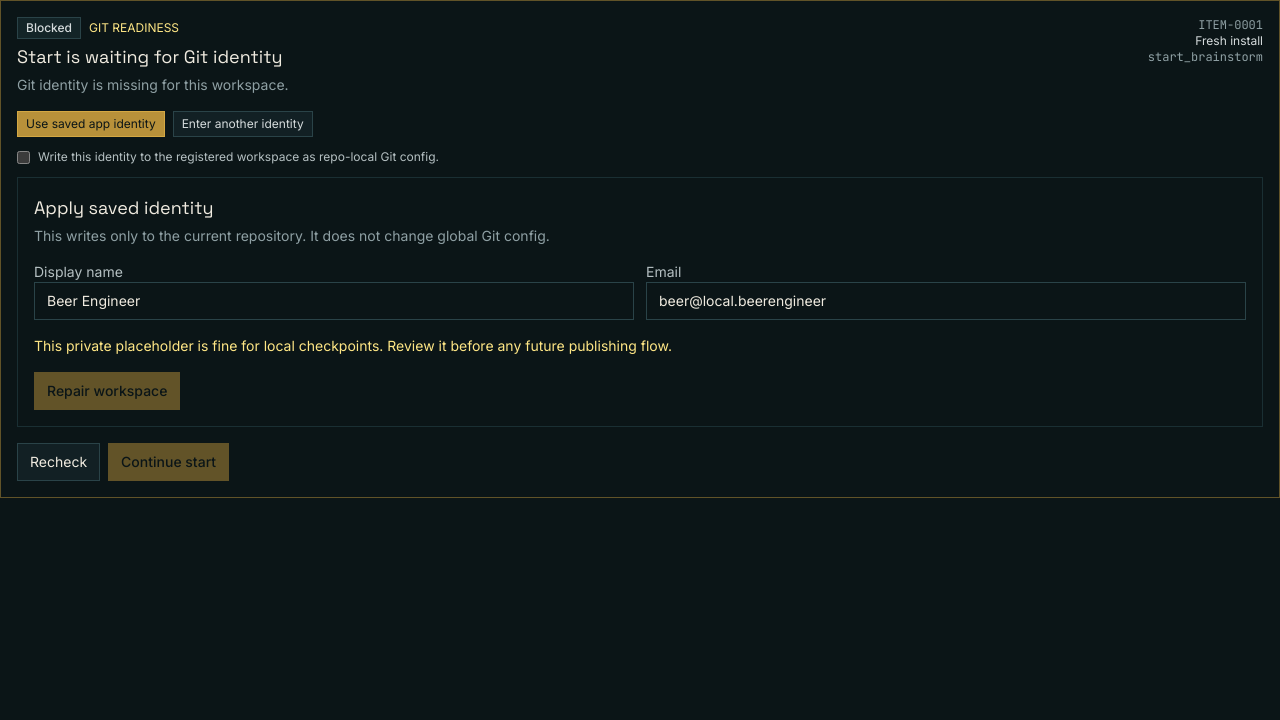
WorkflowGitRepairPanel › keeps the fresh blocker visible when repair recheck is still blocked
The width and height of the screenshot is (1280, 720).
Click the checkbox at [24, 158], box [17,151,30,164]
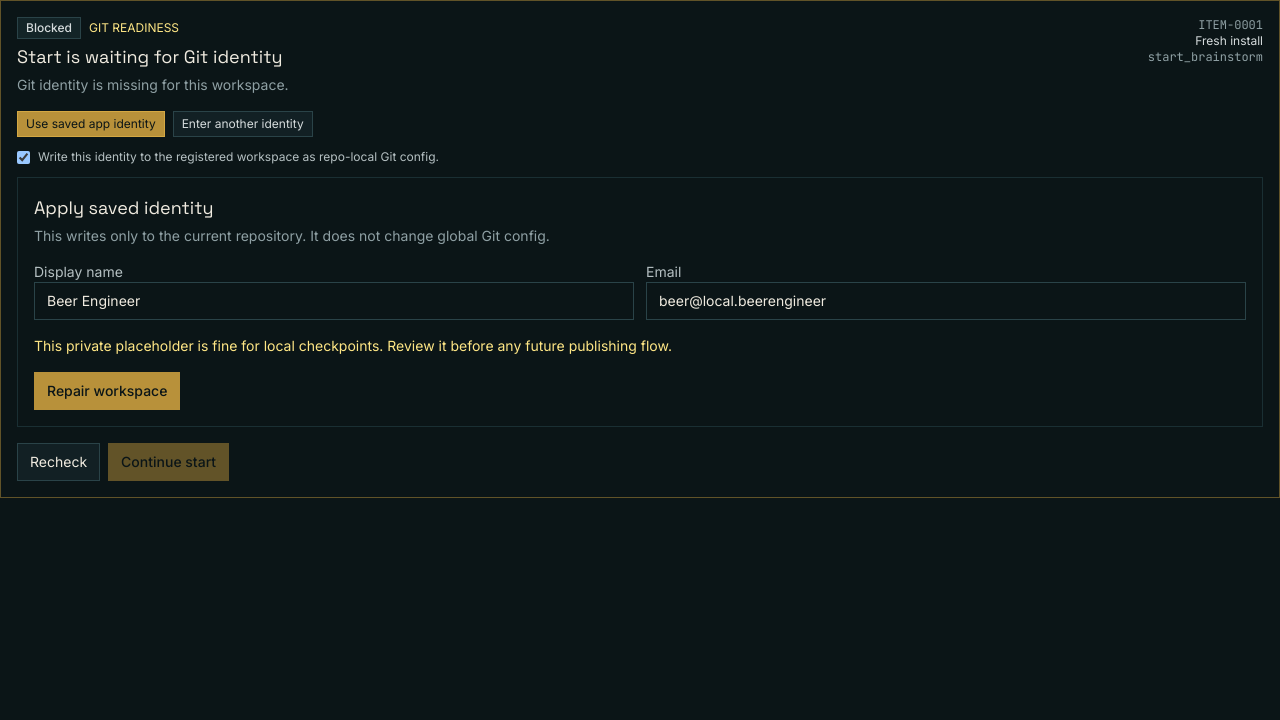
Click the button "Enter another identity" at [243, 124], box [173,111,313,137]
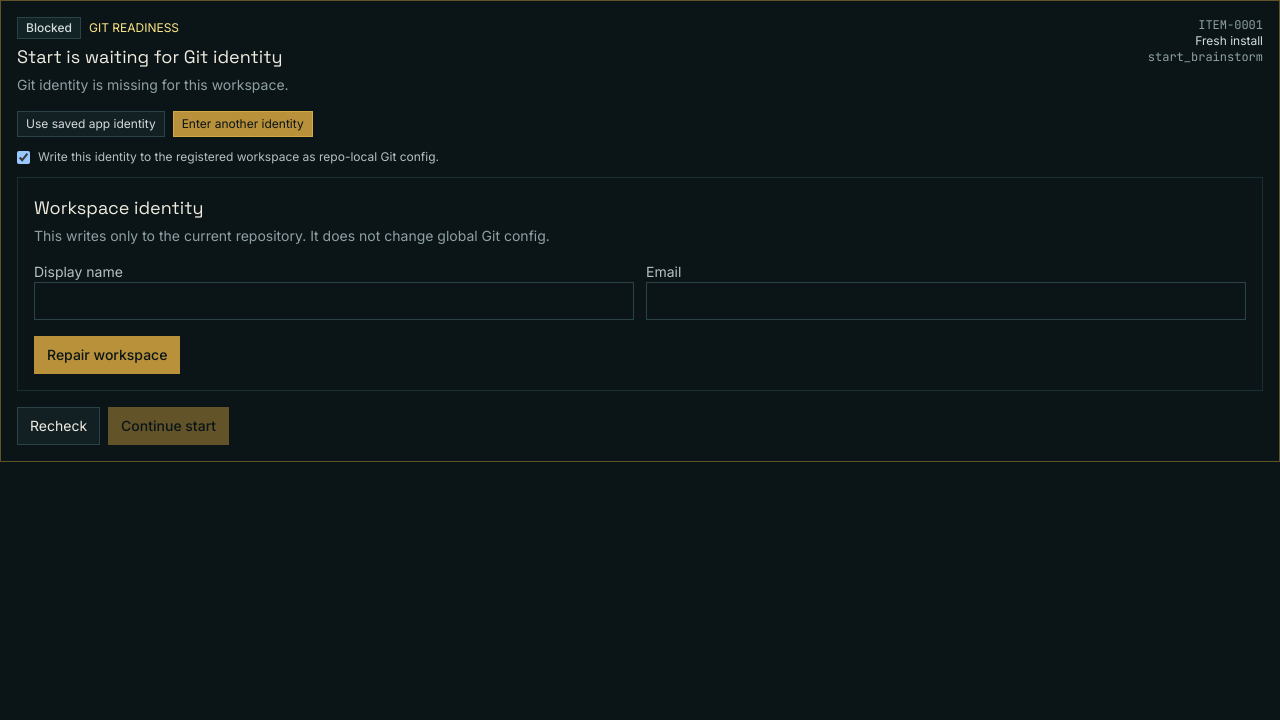
Type "Only Name" into the field labelled "Display name" at [334, 301], box [34,282,634,320]
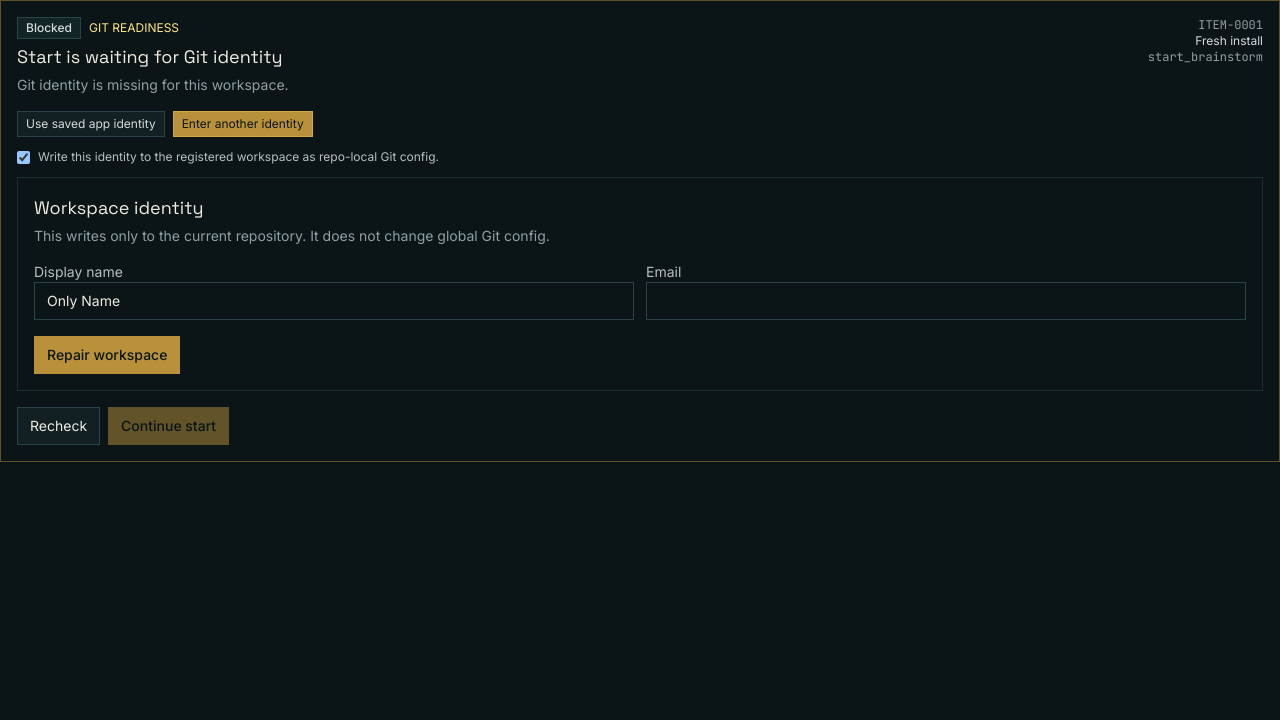
Type "repair@example.test" into the field labelled "Email" at [946, 301], box [646,282,1246,320]
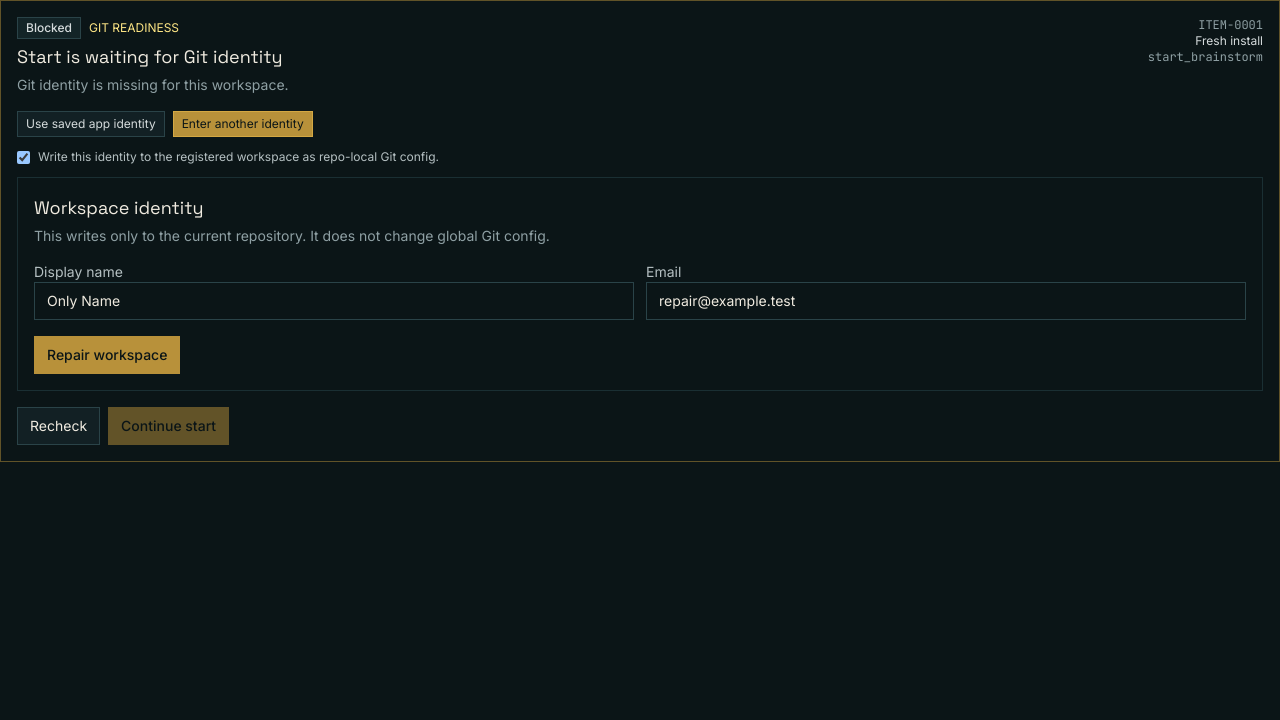
Click the button "Repair workspace" at [107, 355], box [34,336,180,374]
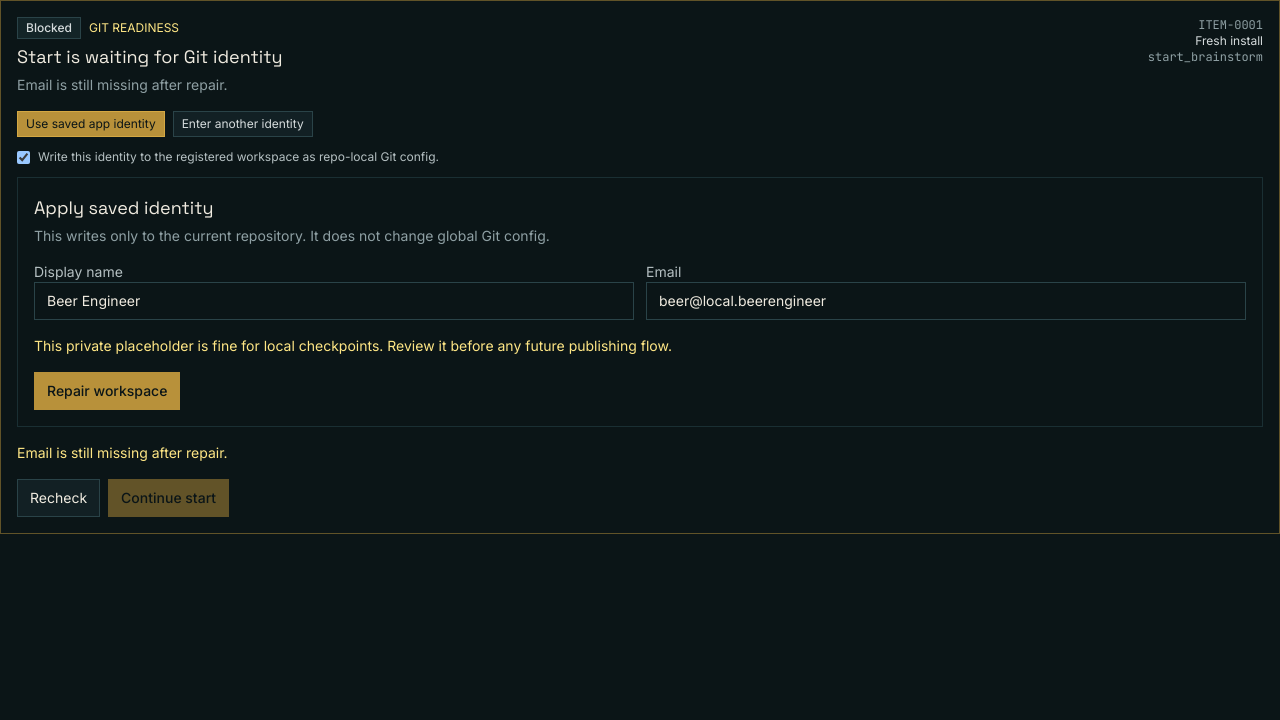
Expected: the button "Continue start" is disabled, [108,479,229,517]
Now the message shows "Email is still missing after repair", box [17,444,228,461]
